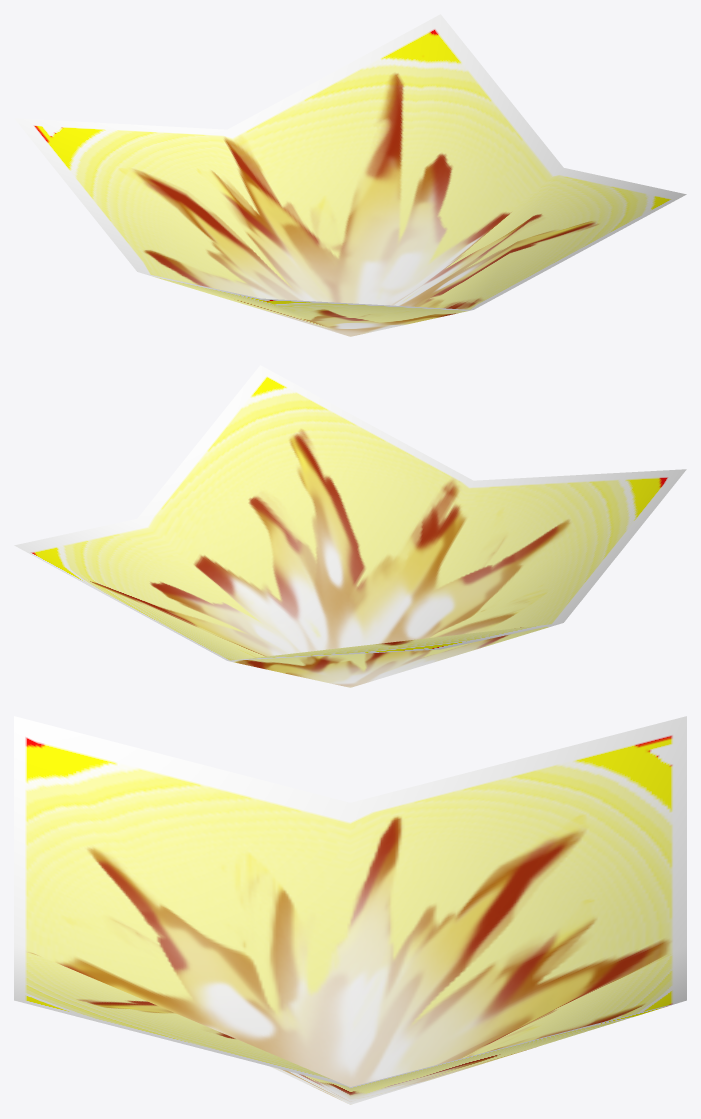
File: FX_Shoot_1.FBX
The picture shows the model from 3 angles, top to bottom: view 1: azimuth 30°, elevation 25°; view 2: azimuth 150°, elevation 25°; view 3: azimuth 270°, elevation 25°; orthographic projection. The views are drawn at different scales.
Visible parts, largest first — view 1: Plane1; view 2: Plane1; view 3: Plane1.
Boxes of the visible parts, x1,y1,x2,y2 form: Plane1: (14,14,686,336); Plane1: (14,365,686,687); Plane1: (14,716,686,1104).
Bounding box in the file's own units: 50 × 20.22 × 50.
1 material, 1 textured.
